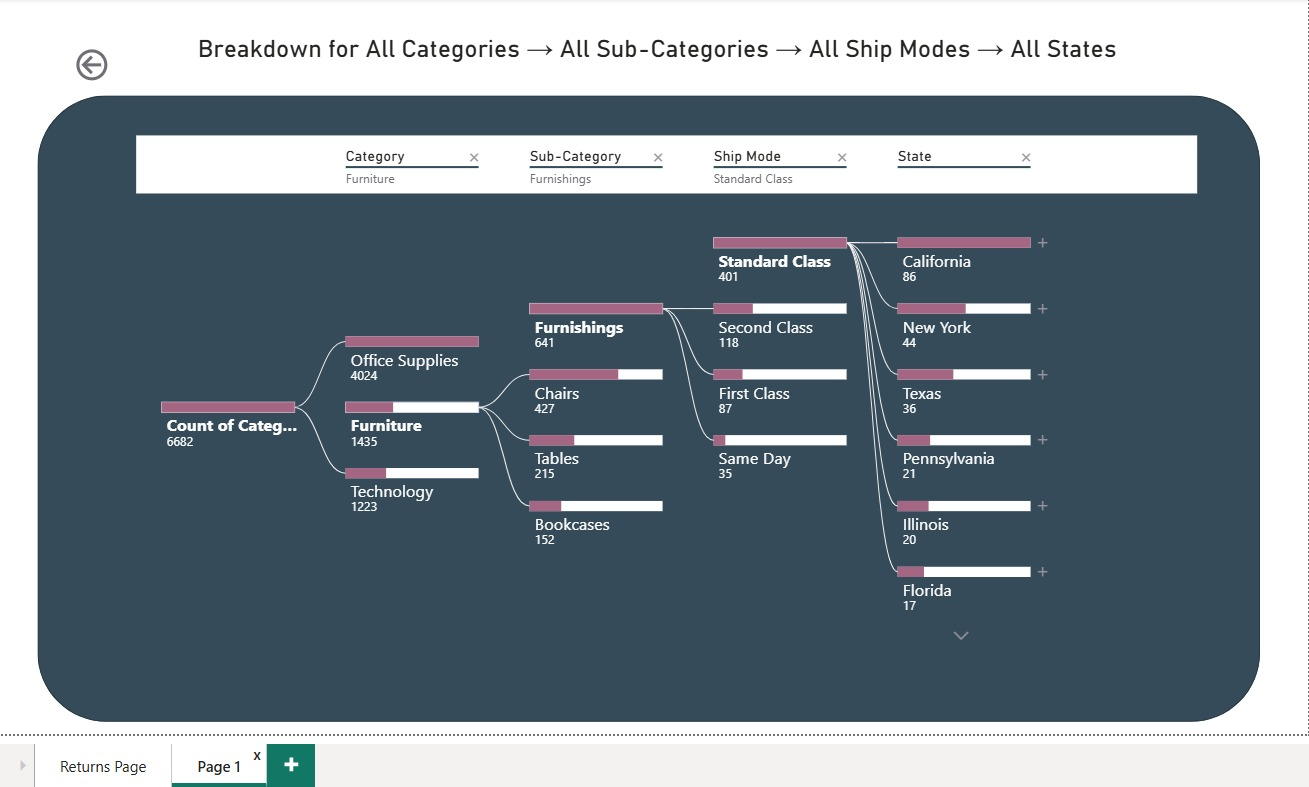

What the dashboard file says about the page in this screenshot:
{"tool":"powerbi","page":{"name":"Page 1","canvas":[1280,720],"ordinal":1},"visuals":[{"type":"shape","box":[36.7,95.4,1195.9,612.6],"z":0},{"type":"decompositionTreeVisual","fields":{"ExplainBy":["Orders.Category","Orders.Sub-Category","Orders.Ship Mode","Orders.State","Orders.Country"],"Analyze":["CountNonNull(Orders.Category)"]},"box":[128.4,129.6,1048,524.6],"z":1000},{"type":"card","fields":{"Values":["Bridge_OrderID.Dynamic Tree Title"]},"box":[140.6,20.8,1005.2,56.3],"z":2000},{"type":"actionButton","box":[69.7,45.2,100.3,40.4],"z":3000}]}

Visuals, with their boxes on the page's 1280x720 design canvas (x1, y1, x2, y2). These are canvas units, not pixel positions in the 1309x787 screenshot, which may show the page scaled, cropped or inside an application window:
shape: (37, 95, 1233, 708)
decompositionTreeVisual - Orders.Category x Orders.Sub-Category: (128, 130, 1176, 654)
card - Bridge_OrderID.Dynamic Tree Title: (141, 21, 1146, 77)
actionButton: (70, 45, 170, 86)
